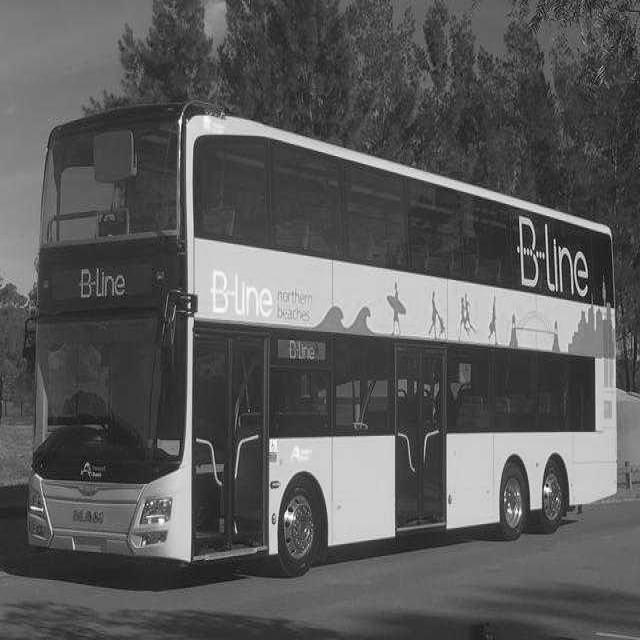Bus: (25, 103, 616, 574)
